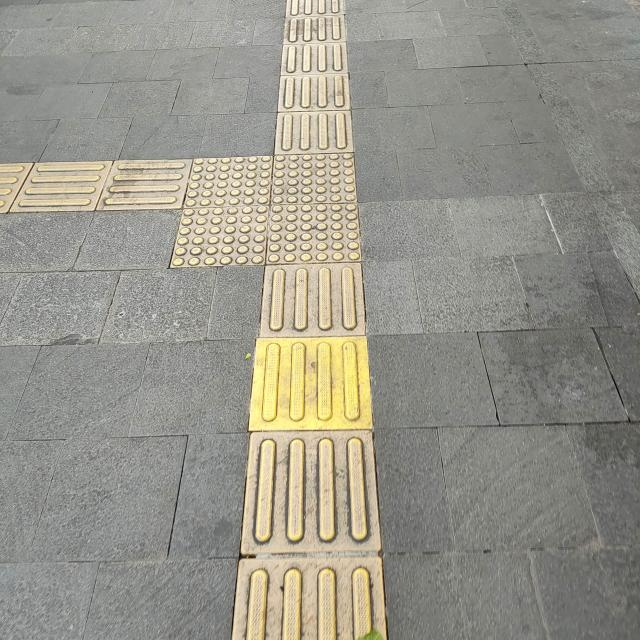lurus: (249, 290, 381, 640), (285, 0, 354, 142)
